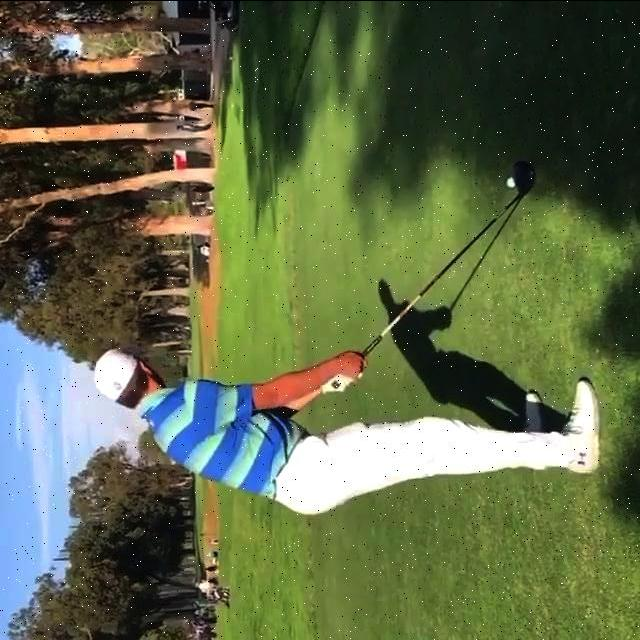golf ball: (506, 177, 515, 187)
golf club-handle: (331, 159, 536, 388)
golf club-head: (513, 160, 536, 190)
